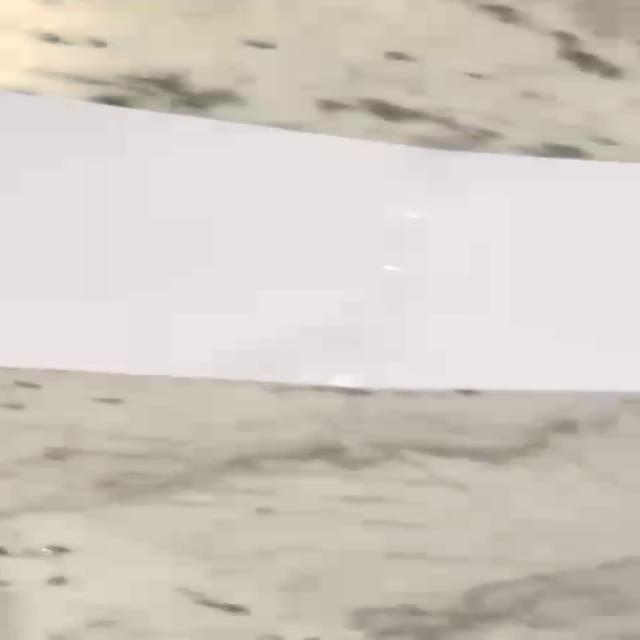road: (0, 88, 640, 395)
